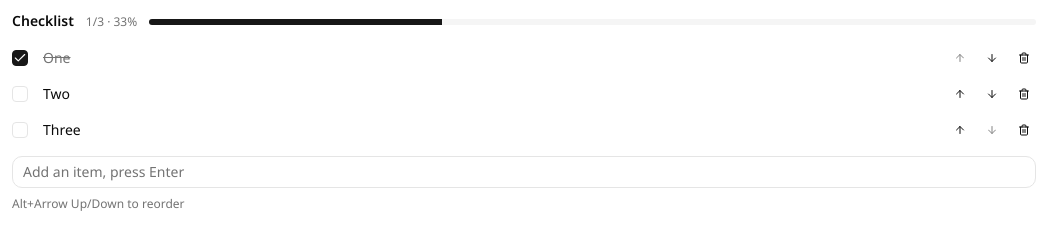
Scenario: Checklist › toggle updates progress text
expect the text "1/3 · 33%" is shown: met, box [86,14,137,30]
Click the checkbox named "Two" at (20, 94), box [12,86,28,102]
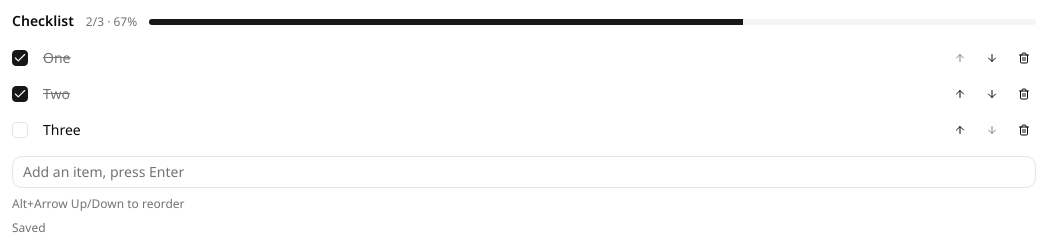
expect the text "2/3 · 67%" is shown: met, box [86,14,137,30]
